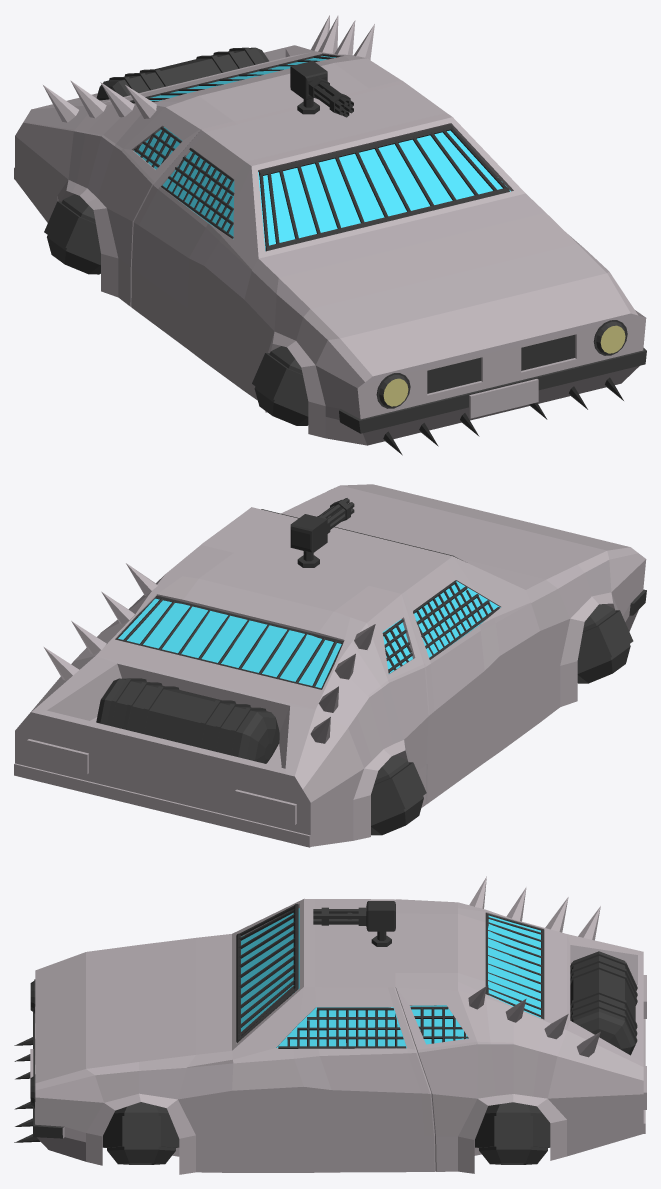
3 renders of one model, top to bottom at view 1: azimuth 30°, elevation 25°; view 2: azimuth 150°, elevation 25°; view 3: azimuth 270°, elevation 25°, orthographic. The views are drawn at different scales.
Parts seen in each view (by area): view 1: car, Arma sup1; view 2: car, Arma sup1; view 3: car, Arma sup1.
Part boxes in pixels (<box>): car: <box>14,15,646,455</box>; Arma sup1: <box>290,61,353,117</box>; car: <box>14,484,646,847</box>; Arma sup1: <box>290,498,354,567</box>; car: <box>14,876,646,1174</box>; Arma sup1: <box>313,901,395,946</box>.
Size of the model in its own units: 2 by 1.2 by 3.4.
